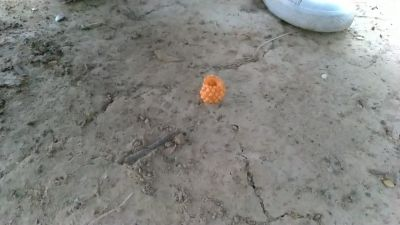eggs: (200, 74, 225, 108)
